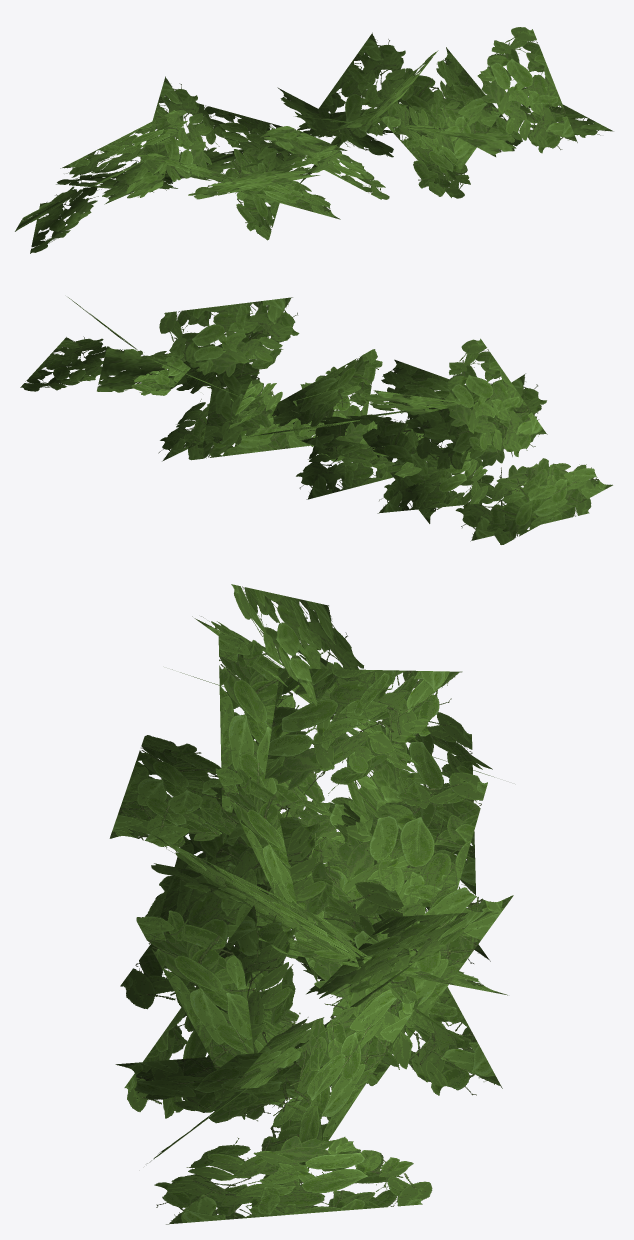
Rendered from tree_hedge.glb.
3 renders of one model, top to bottom at view 1: azimuth 30°, elevation 25°; view 2: azimuth 150°, elevation 25°; view 3: azimuth 270°, elevation 25°, orthographic. The views are drawn at different scales.
Parts seen in each view (by area): view 1: tree_hedge_foliage; view 2: tree_hedge_foliage; view 3: tree_hedge_foliage.
Boxes of the visible parts, x1=… form: tree_hedge_foliage: x1=15, y1=27, x2=613, y2=253; tree_hedge_foliage: x1=20, y1=297, x2=612, y2=544; tree_hedge_foliage: x1=109, y1=584, x2=513, y2=1224.
Size of the model in its own units: 0.2052 by 0.05 by 0.0673.
1 material, 1 textured.
